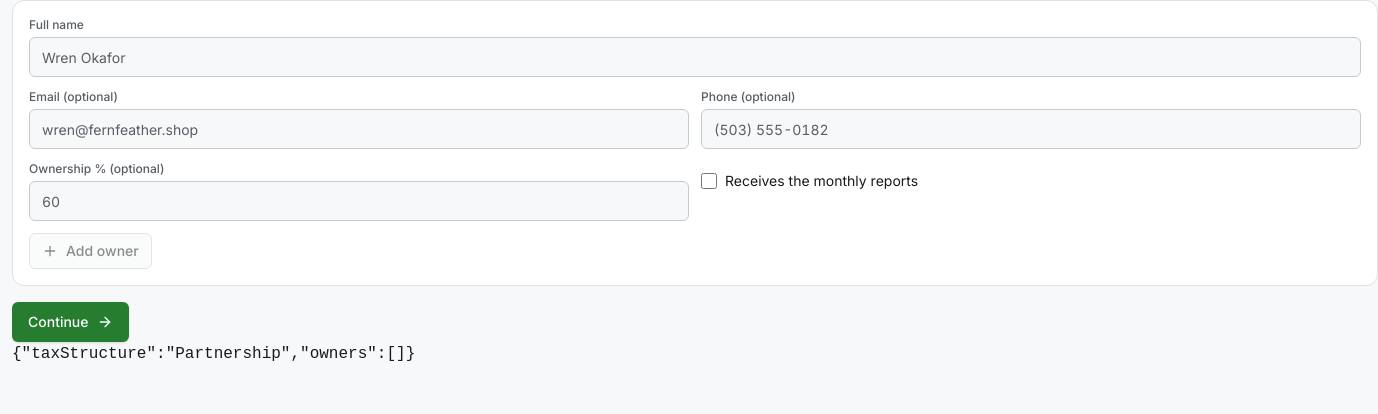
Scenario: A7: continue_with_unadded_draft_prompts_save_or_discard (09_30 00:38:21) › an invalid draft still blocks with the plain message (no dialog)
Type "40" into the number field named "Ownership %" at (359, 201), box [29,181,689,221]
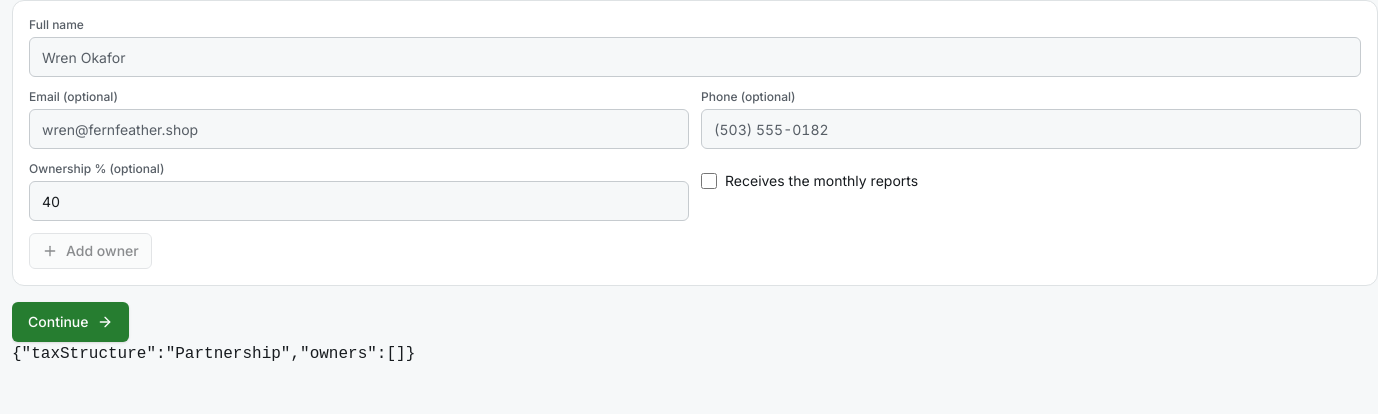
Click the button with test id "continue" at (70, 322), box [12,302,128,342]
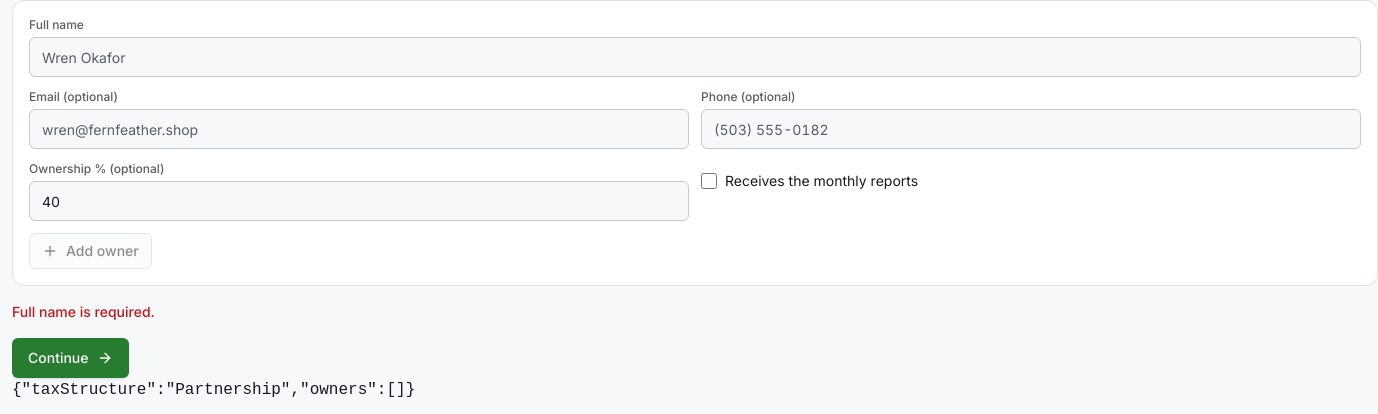
Now the message "Full name is required." is shown, box [12,303,155,320]
